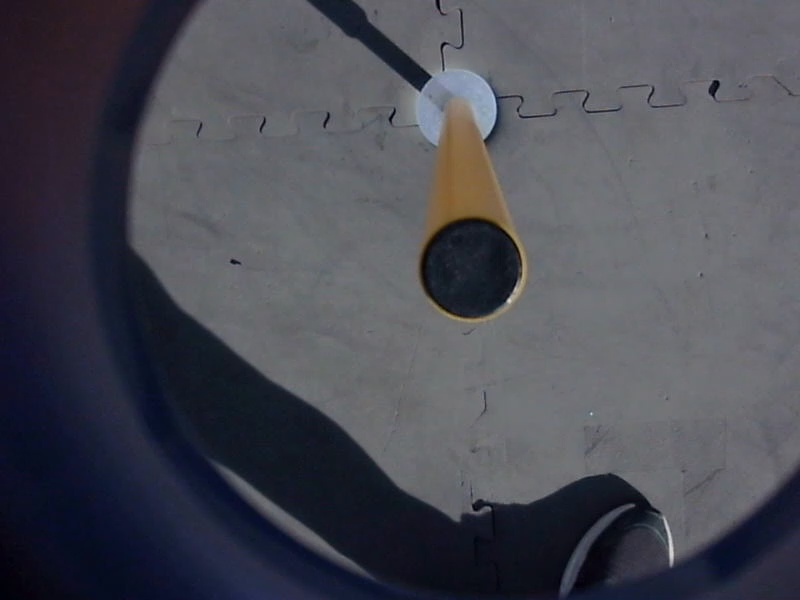tip: (413, 212, 530, 327)
